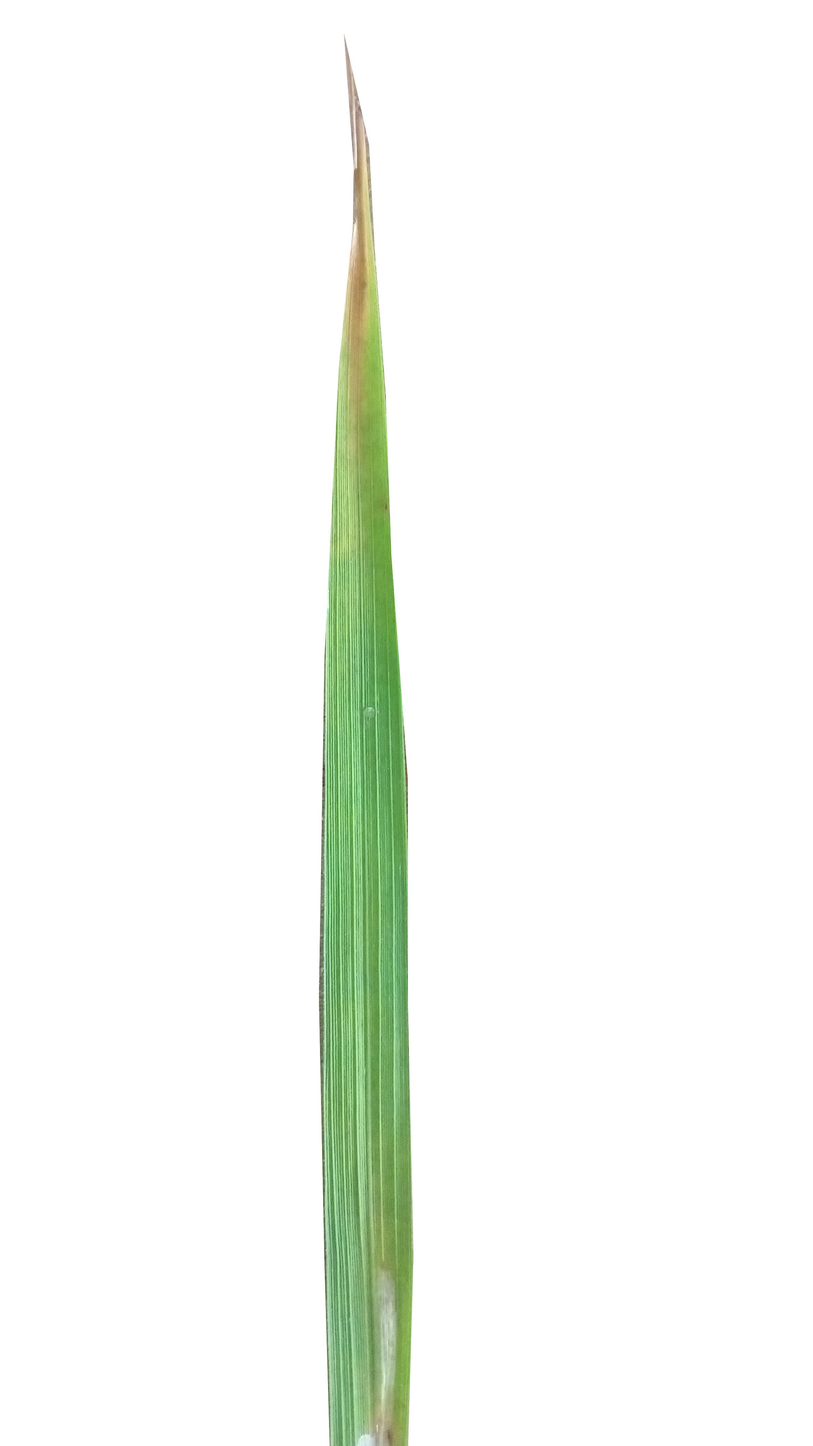Tungro: (332, 152, 393, 567)
